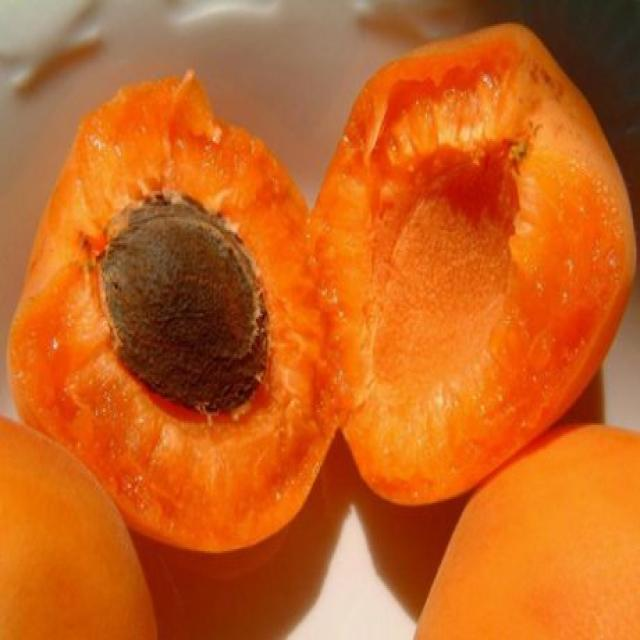Cekirdek: (100, 193, 266, 412)
Kayisi: (11, 72, 338, 549), (314, 24, 633, 501)
